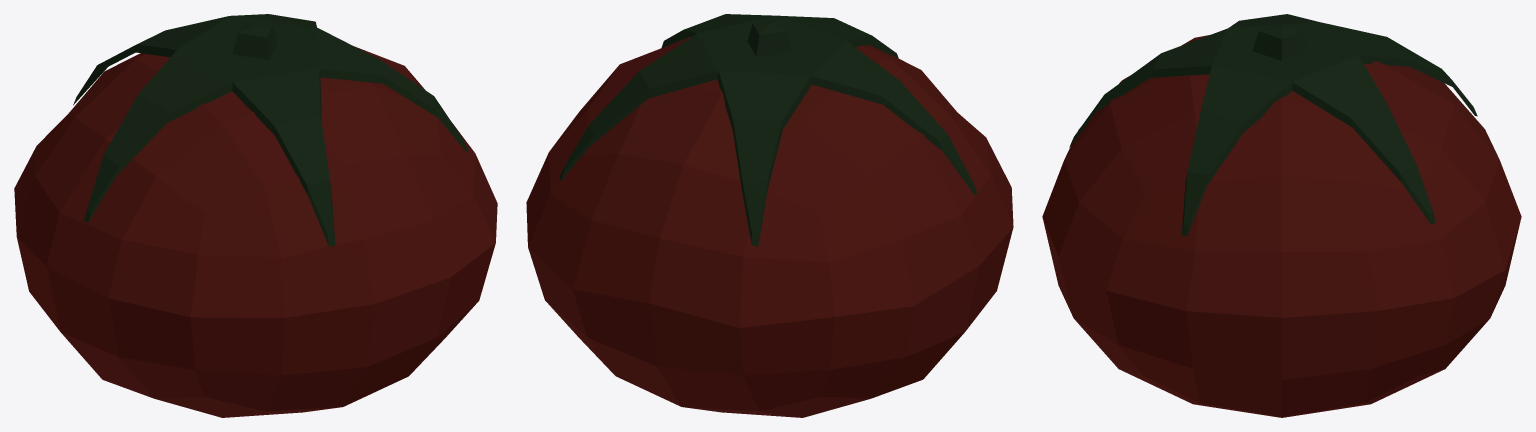
Rendered from Tomato.glb.
3 renders of one model, left to right at view 1: azimuth 30°, elevation 25°; view 2: azimuth 150°, elevation 25°; view 3: azimuth 270°, elevation 25°, orthographic.
Parts seen in each view (by area): view 1: Tomato; view 2: Tomato; view 3: Tomato.
Part boxes in pixels (bbox=[...]): Tomato: bbox=[14, 14, 497, 417]; Tomato: bbox=[526, 14, 1013, 417]; Tomato: bbox=[1042, 14, 1521, 417].
Size of the model in its own units: 75.25 by 62.64 by 75.25.
